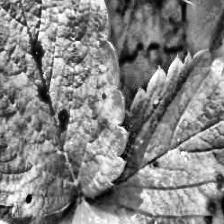Leaf Spot: (0, 0, 130, 221), (65, 48, 224, 224), (0, 147, 81, 224)
